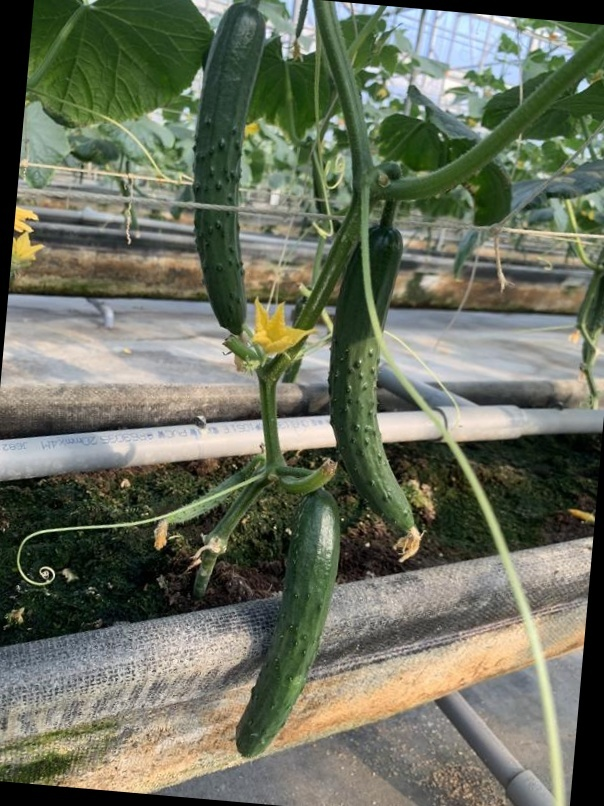mature: (186, 2, 271, 337), (328, 222, 416, 539), (233, 496, 340, 752)
